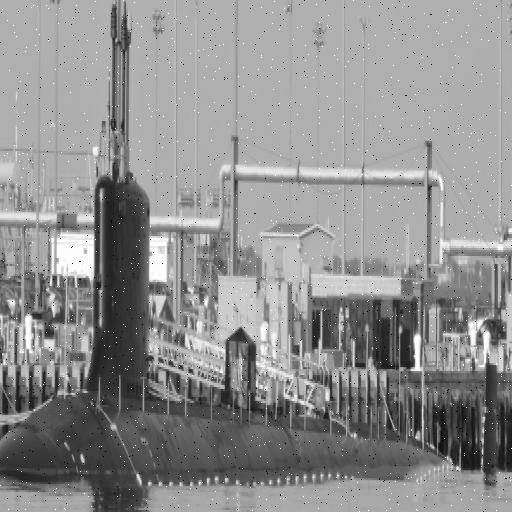submarine: (1, 1, 496, 479)
